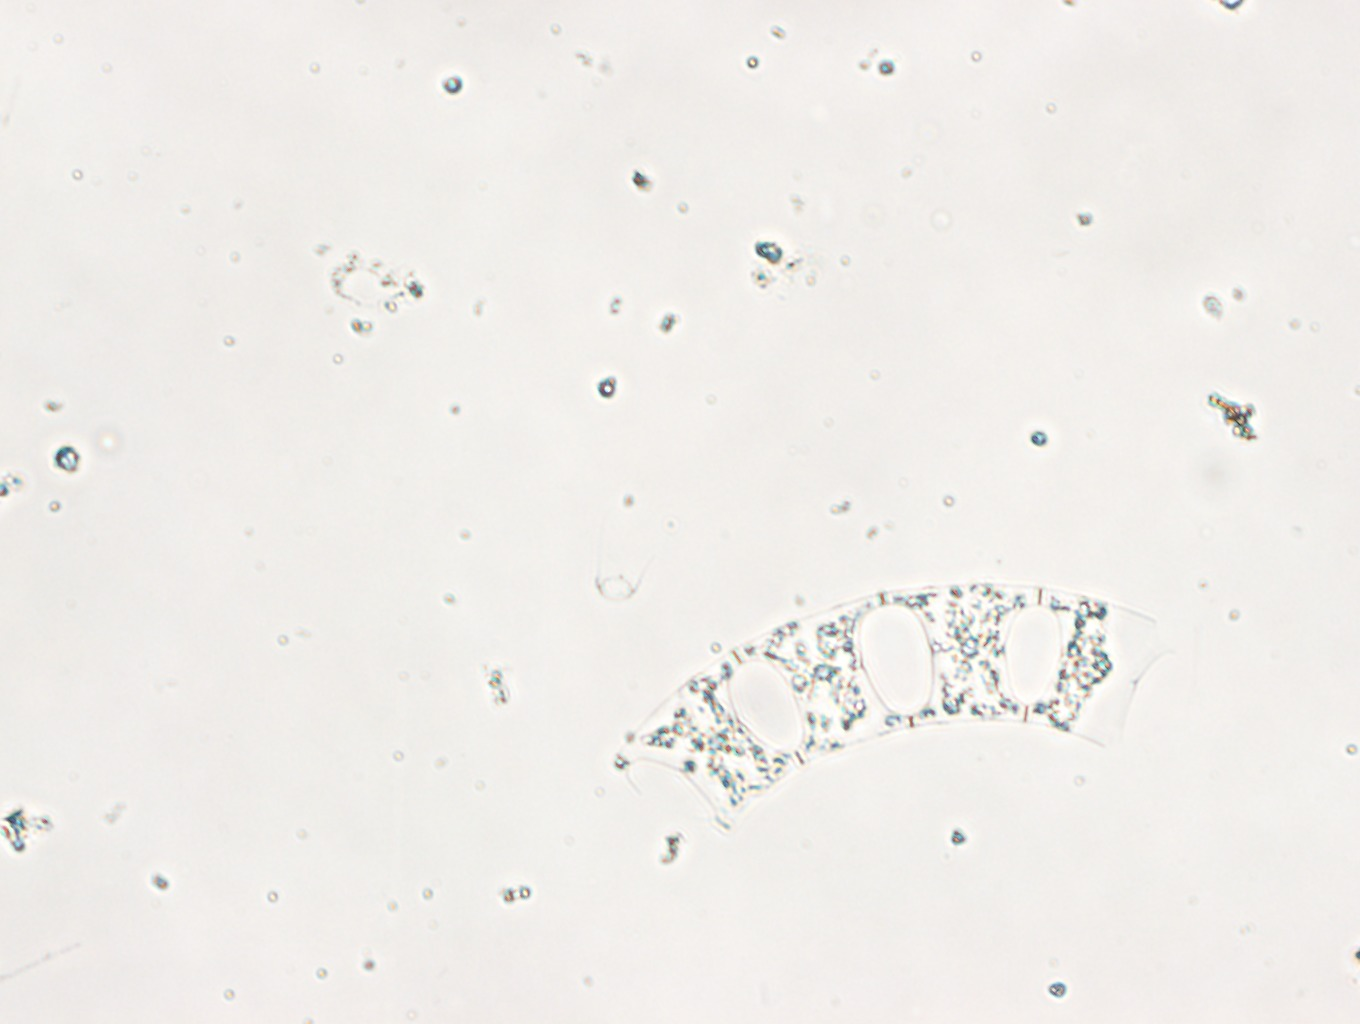eucampia: (605, 568, 1173, 852)
